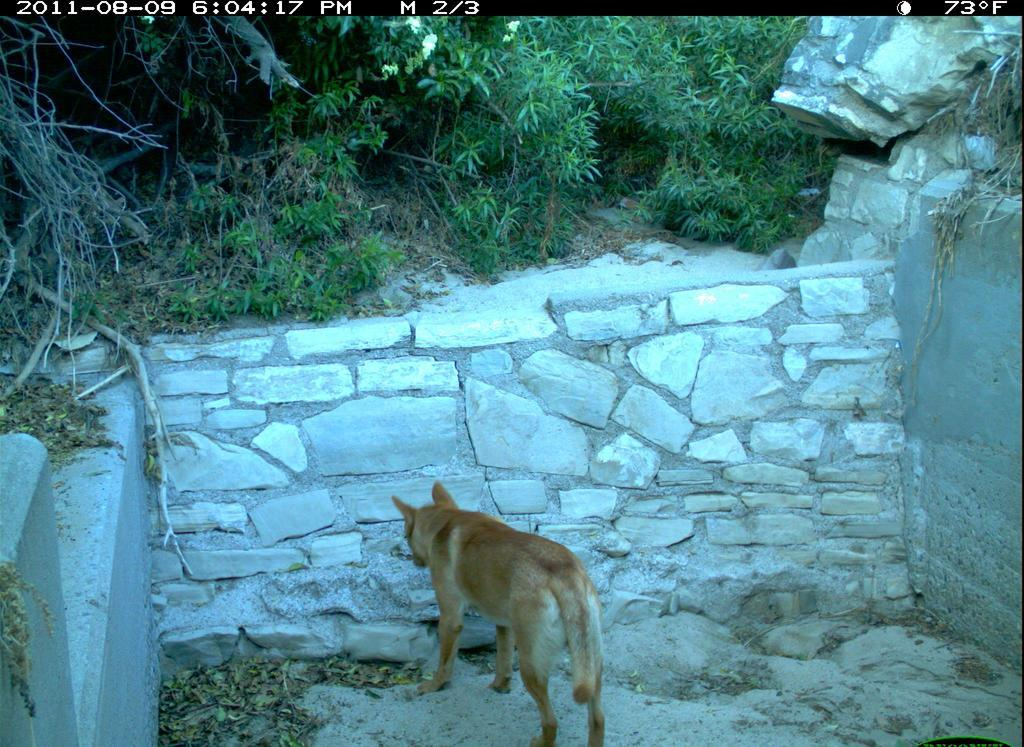dog: (383, 478, 624, 747)
